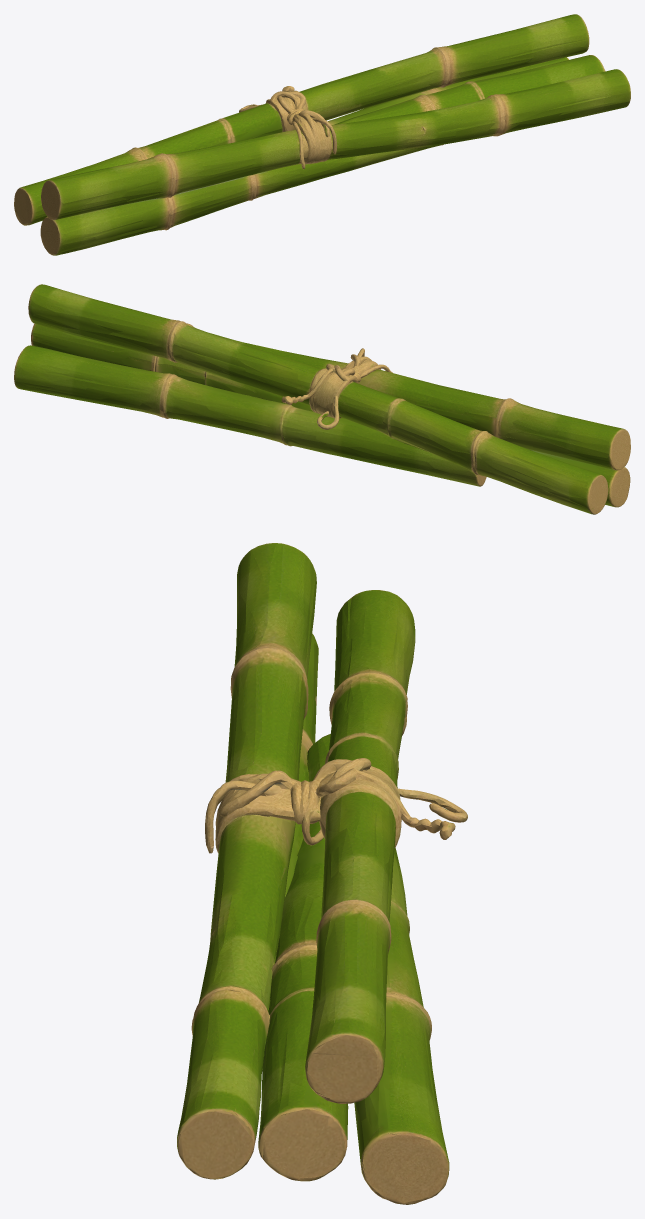
File: DEC_BAMBOO_001.glb
The picture shows the model from 3 angles, top to bottom: view 1: azimuth 30°, elevation 25°; view 2: azimuth 150°, elevation 25°; view 3: azimuth 270°, elevation 25°; orthographic projection. The views are drawn at different scales.
Size of the model in its own units: 1.9 by 0.3051 by 0.4274.
1 material, 1 textured.
